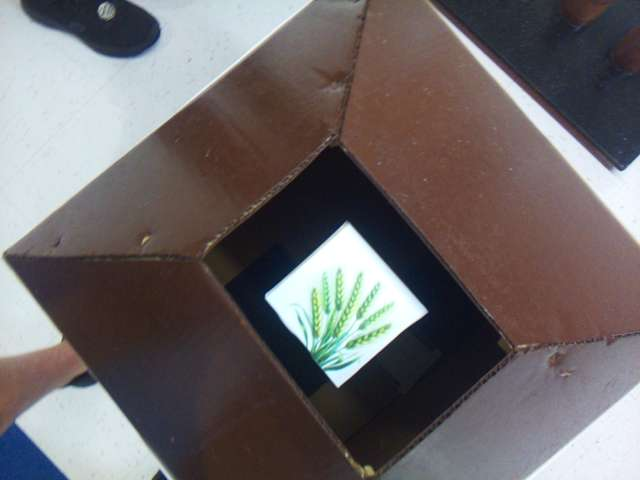wheat_barn: (267, 225, 424, 386)
